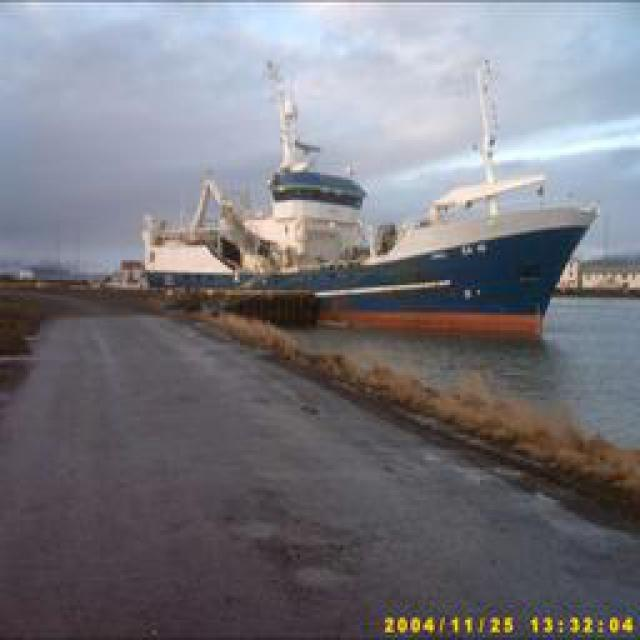Ship: (145, 169, 598, 344)
